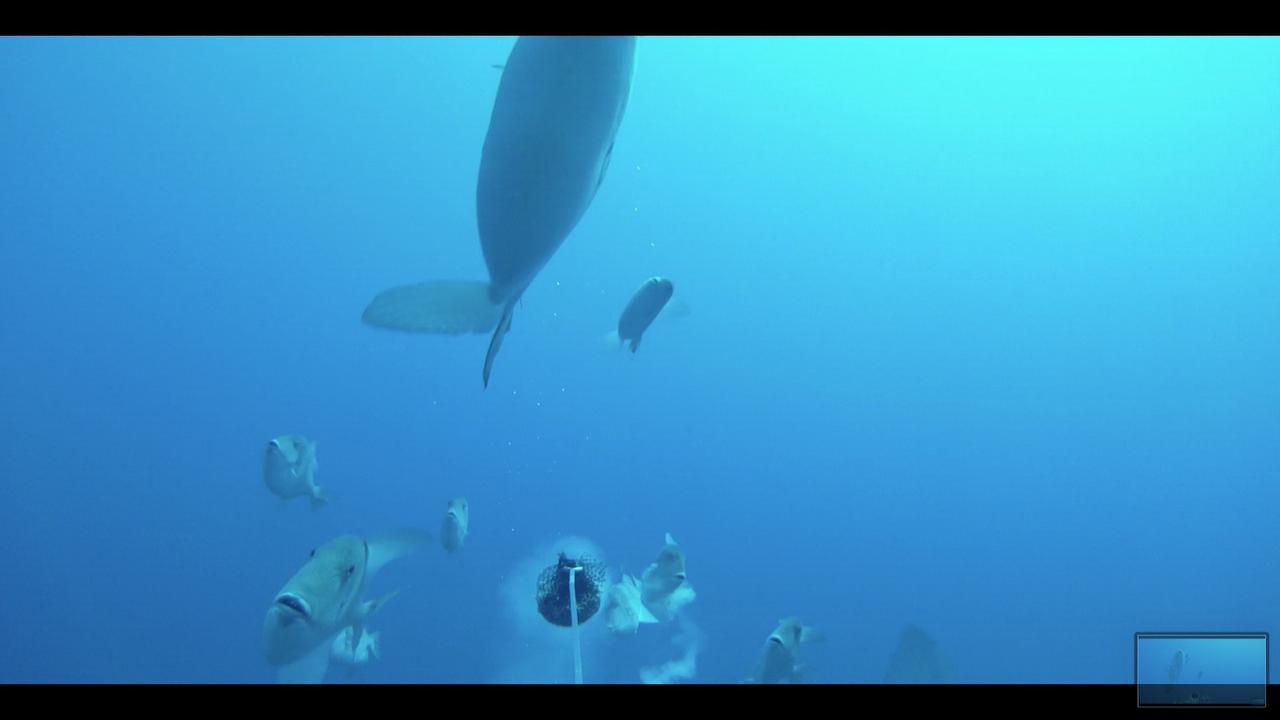balistes: (360, 38, 620, 387), (250, 517, 428, 672), (255, 426, 335, 512), (626, 524, 691, 624), (743, 606, 825, 681), (421, 486, 482, 562)
